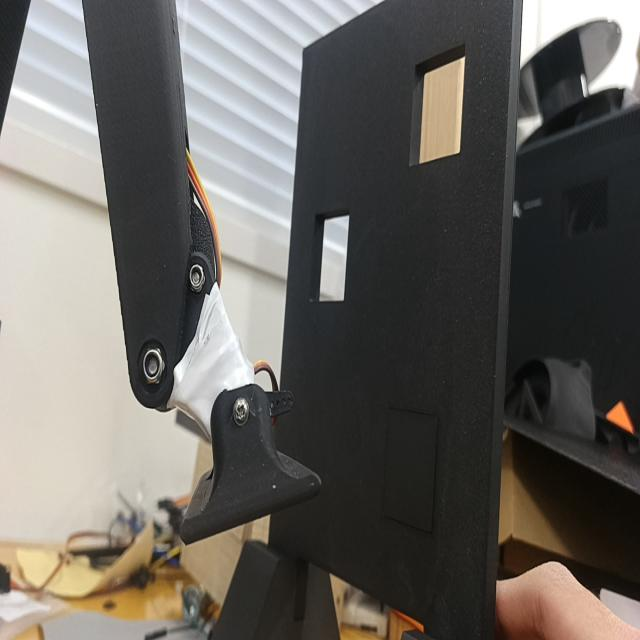Obstacle: (409, 43, 469, 164), (312, 206, 353, 300)
Wall: (269, 0, 521, 639)
